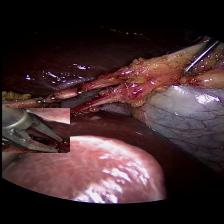Clipper: (0, 108, 69, 153)
Grasper: (180, 41, 224, 78)
